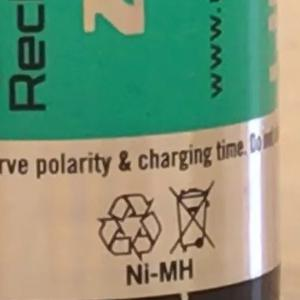NI-MH: (116, 248, 203, 296)
